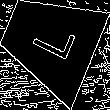L_NW: (23, 17, 77, 66)
